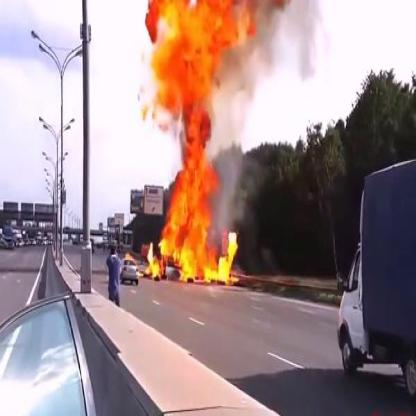fire: (139, 0, 273, 284)
